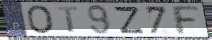7: (145, 5, 168, 35)
9: (87, 3, 113, 36)
F: (169, 5, 201, 36)
O: (25, 5, 56, 35)
T: (56, 6, 80, 34)
Z: (112, 6, 146, 35)
